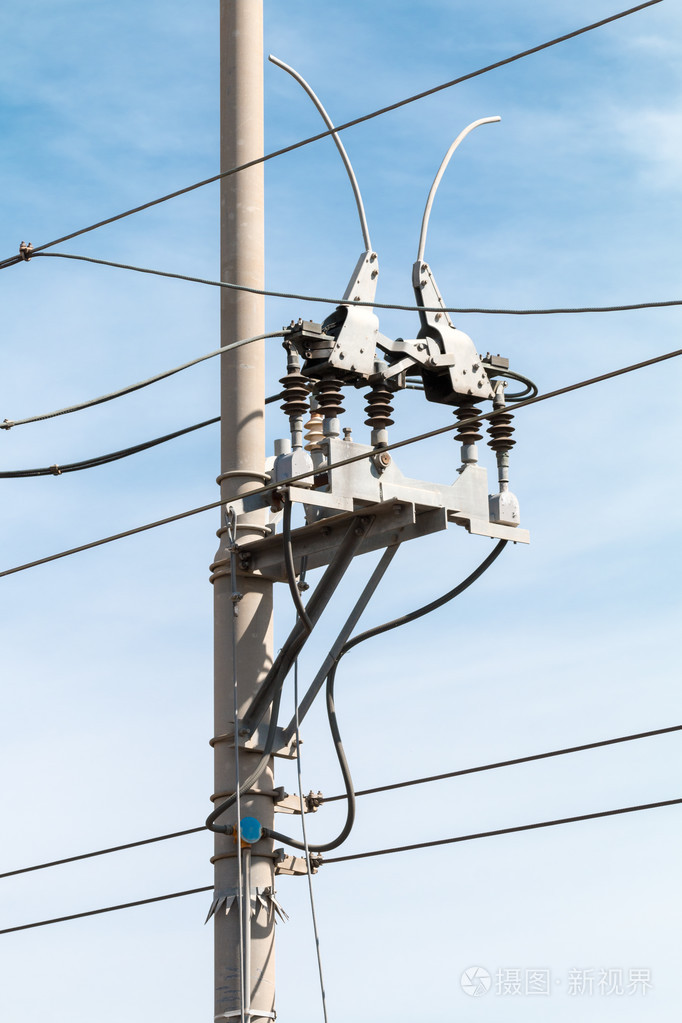insulator: (277, 367, 309, 428), (449, 401, 486, 450), (484, 408, 521, 456), (317, 373, 347, 421), (366, 391, 400, 430)
